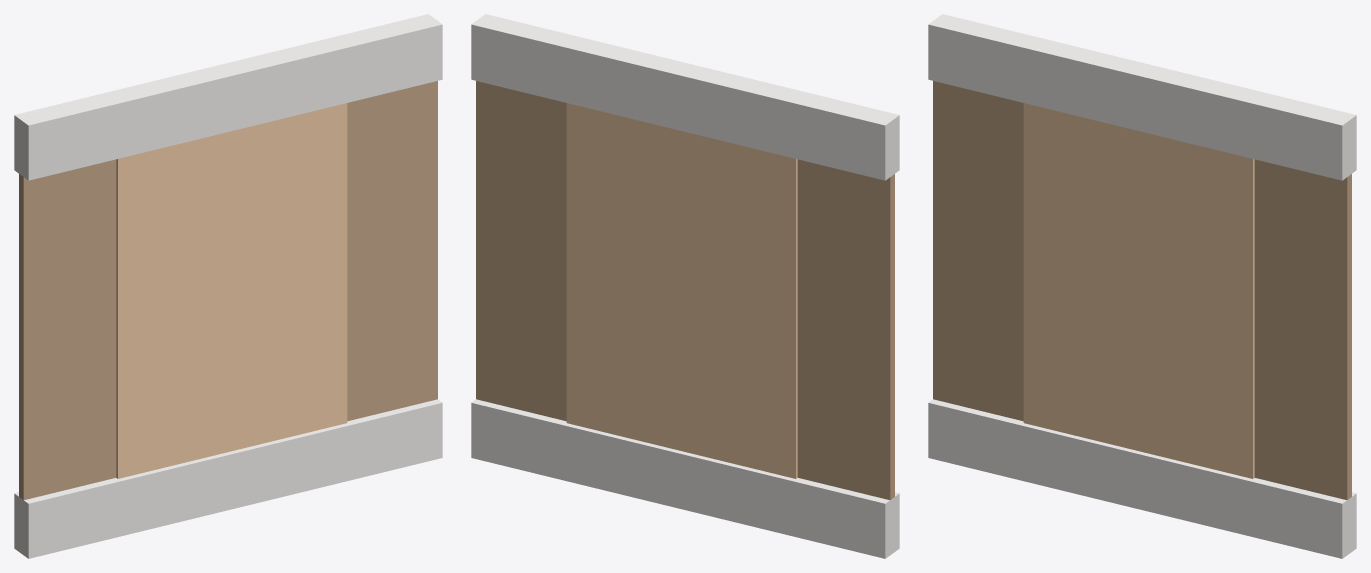
File: wall.fbx
3 views of the same model, side by side, from view 1: azimuth 30°, elevation 25°; view 2: azimuth 150°, elevation 25°; view 3: azimuth 330°, elevation 25° (orthographic).
Visible parts, largest first — view 1: Cube; view 2: Cube; view 3: Cube.
Boxes of the visible parts, left/top/right/bottom form: Cube: left=14, top=14, right=442, bottom=558; Cube: left=471, top=14, right=899, bottom=558; Cube: left=928, top=14, right=1356, bottom=558.
Bounding box in the file's own units: 5 × 0.3 × 5.
